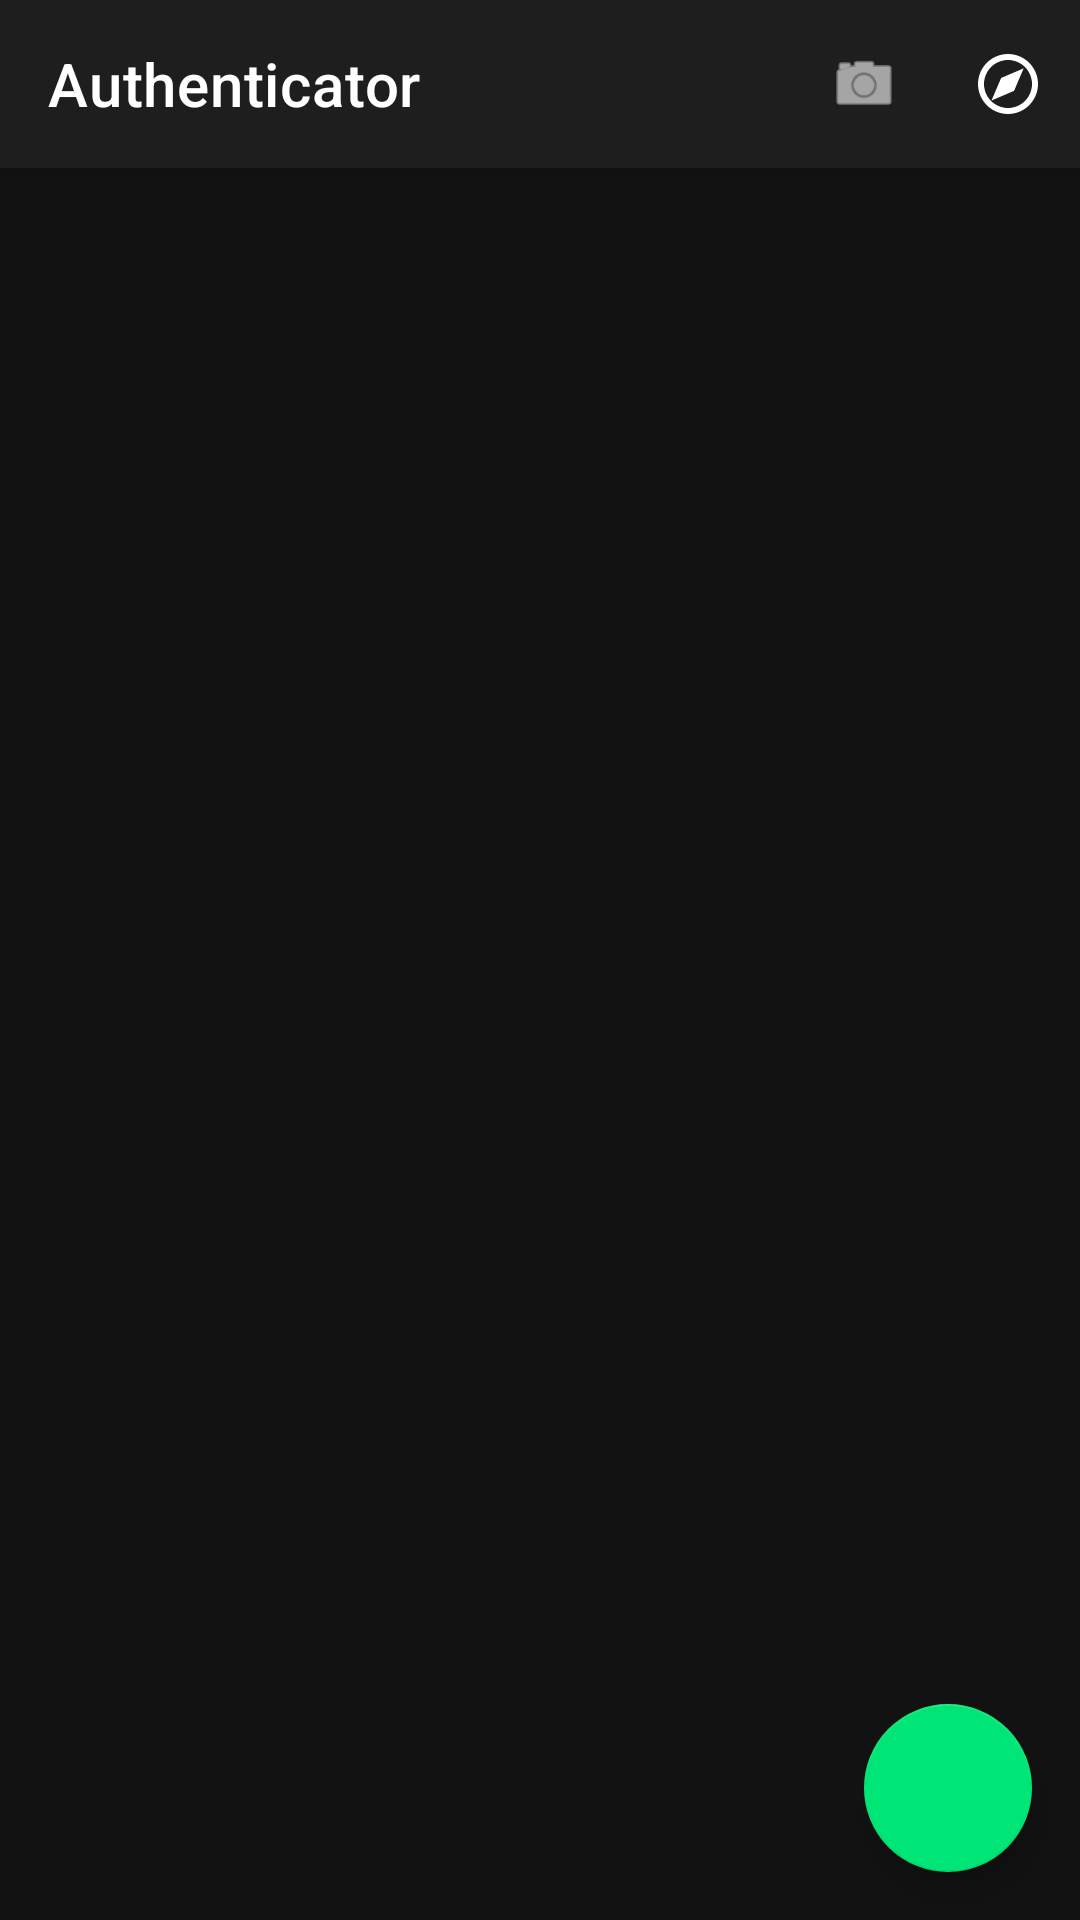

Icons on this 1080px×1920px Android screen, each with the point to tap as [x,y]:
camera: [864,83]
